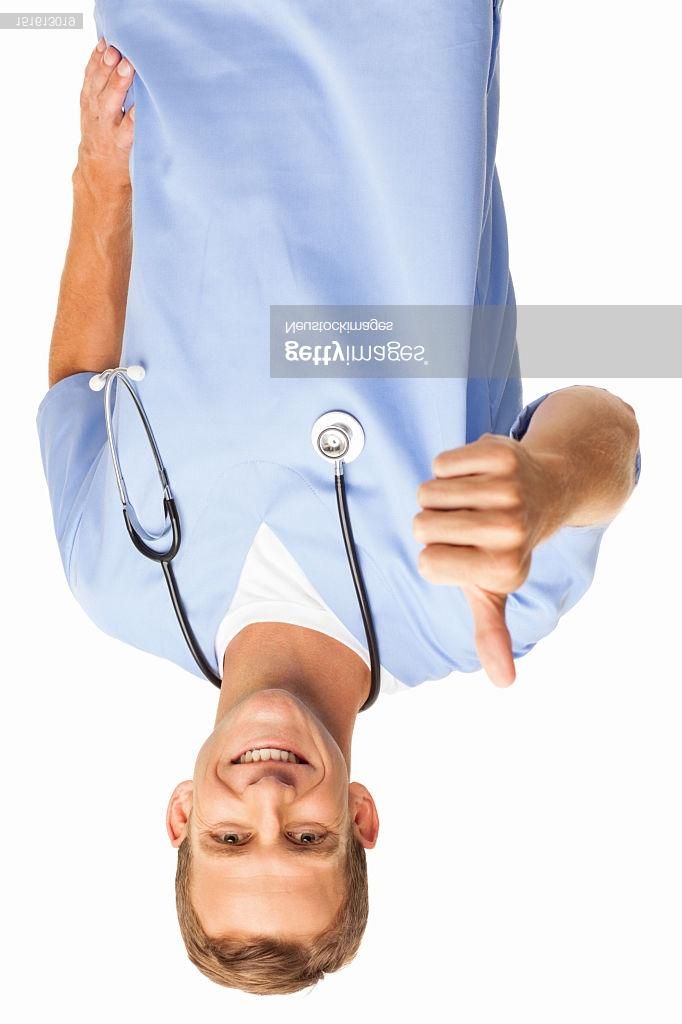thumbsdown: (410, 437, 531, 689)
